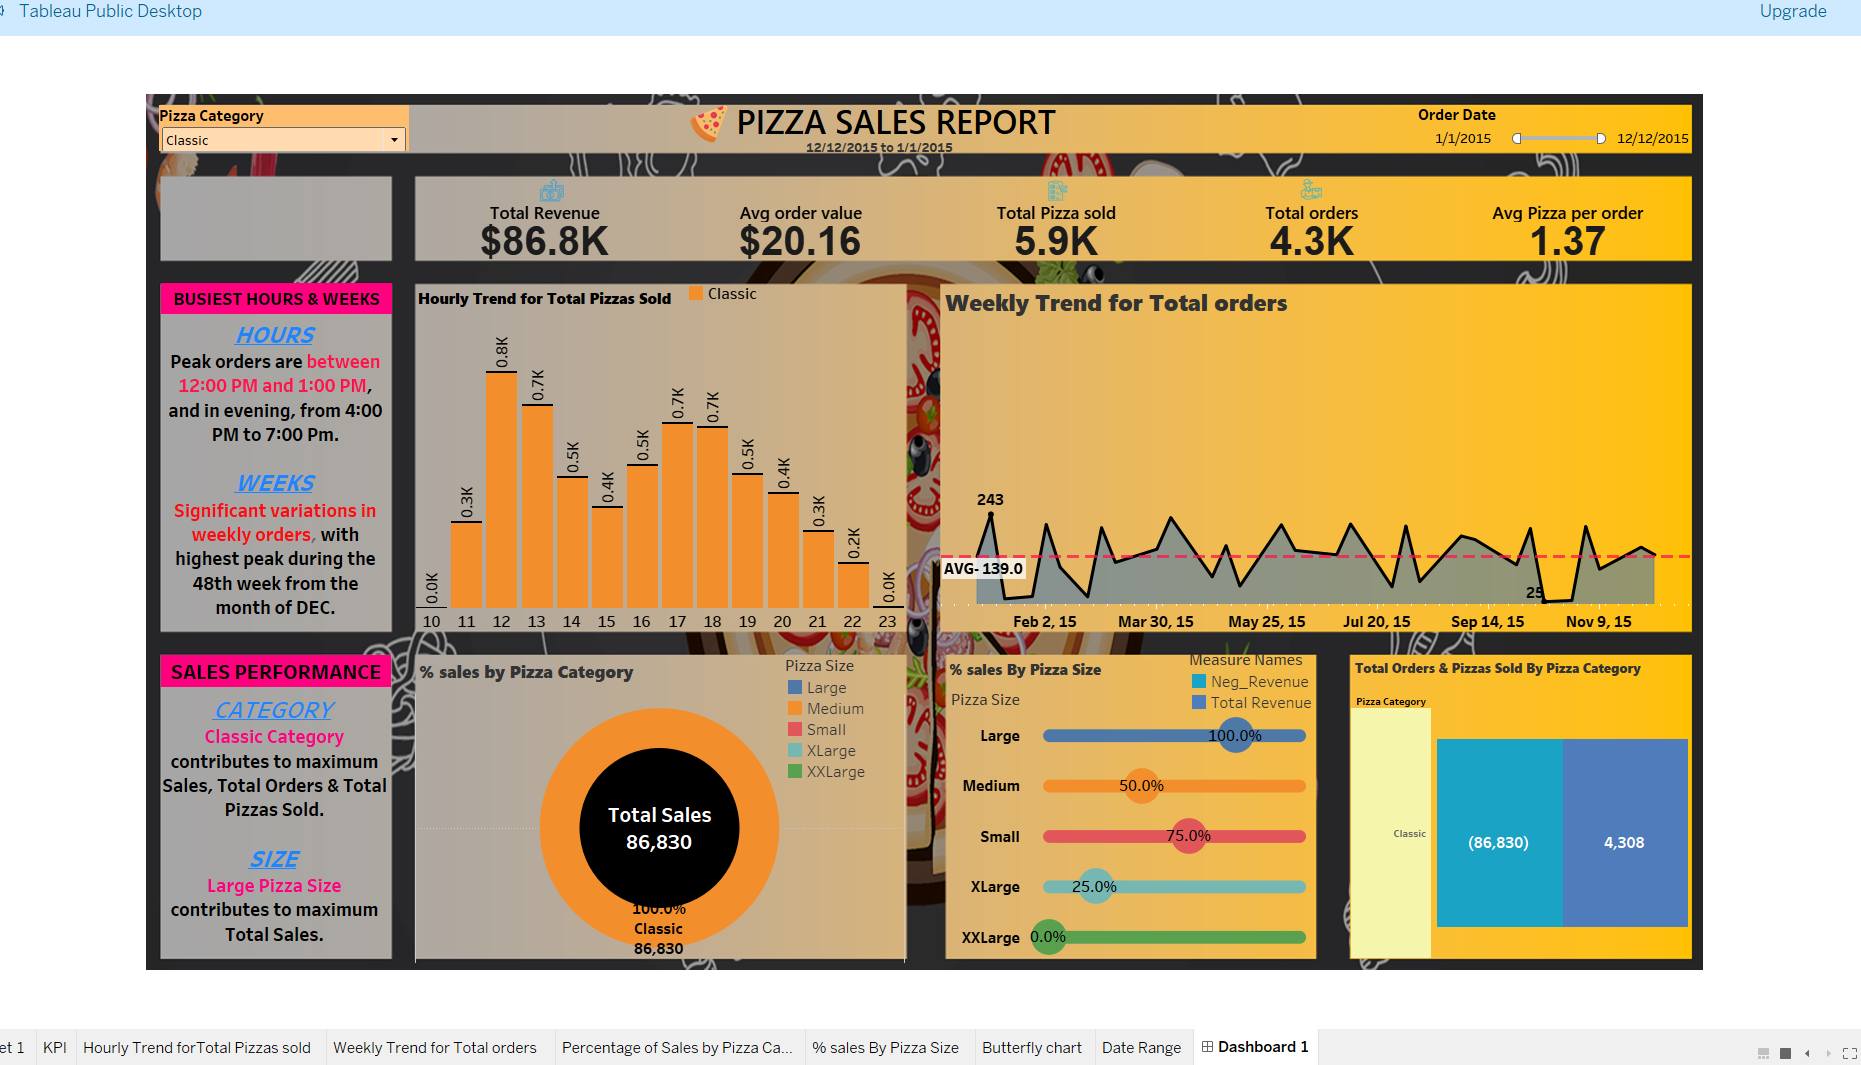

The dashboard page shown, as its layout file describes it:
{"tool":"tableau","page":{"name":"Dashboard 1","canvas":[1600,900],"ordinal":0},"visuals":[{"type":"image","param":"C:/Users/salma/OneDrive/Desktop/Tableau_Data/pizza_sales_background.png","box":[8,8,1584,884]},{"type":"image","param":"D:/Downloads/Tableau Tutorial -20241008T174154Z-001/Tableau Tutorial/Pizza Sales","box":[562,22,44,39]},{"type":"text","box":[608,22,327,32]},{"type":"filter","title":"Hourly Trend forTotal Pizzas sold","param":"[federated.0jikpc61xjph9s16az8lp0pm8ctw].[none:order_date:qk]","box":[1293,22,282,50]},{"type":"filter","title":"Hourly Trend forTotal Pizzas sold","param":"[federated.0jikpc61xjph9s16az8lp0pm8ctw].[none:pizza_category:nk]","box":[34,23,250,46]},{"type":"worksheet","title":"Date Range","mark":"Automatic","box":[644,61,222,9]},{"type":"image","param":"D:/Downloads/Tableau Tutorial -20241008T174154Z-001/Tableau Tutorial/Pizza Sales","box":[394,94,65,27]},{"type":"image","param":"D:/Downloads/Tableau Tutorial -20241008T174154Z-001/Tableau Tutorial/Pizza Sales","box":[1170,96,33,22]},{"type":"image","param":"D:/Downloads/Tableau Tutorial -20241008T174154Z-001/Tableau Tutorial/Pizza Sales","box":[909,98,47,21]},{"type":"worksheet","title":"KPI","mark":"Automatic","box":[292,120,1279,59]},{"type":"worksheet","title":"Weekly Trend for Total orders","mark":"Area","rows":["Calculation_2512445645265821696","Calculation_2512445645265821696"],"cols":["order_date"],"box":[816,200,749,352]},{"type":"text","box":[36,201,231,31]},{"type":"legend","title":"Hourly Trend forTotal Pizzas sold","param":"[federated.0jikpc61xjph9s16az8lp0pm8ctw].[none:pizza_category:nk]","box":[561,201,252,48]},{"type":"worksheet","title":"Hourly Trend forTotal Pizzas sold","mark":"Bar","rows":["Calculation_2512445645267087363","Calculation_2512445645267087363"],"cols":["order_time"],"box":[289,202,492,349]},{"type":"text","box":[37,231,227,319]},{"type":"legend","title":"Butterfly chart","param":"[federated.0jikpc61xjph9s16az8lp0pm8ctw].[:Measure Names]","box":[1064,567,140,64]},{"type":"text","box":[36,573,230,32]},{"type":"legend","title":"% sales By Pizza Size","param":"[federated.0jikpc61xjph9s16az8lp0pm8ctw].[none:pizza_size:nk]","box":[660,573,140,127]},{"type":"worksheet","title":"% sales By Pizza Size","mark":"Line","rows":["pizza_size"],"box":[820,573,373,307]},{"type":"worksheet","title":"Butterfly chart","mark":"Automatic","rows":["pizza_category"],"cols":["Calculation_2512445645965512715","Calculation_2512445645266391041"],"box":[1226,573,343,303]},{"type":"worksheet","title":"Percentage of Sales by Pizza Category","mark":"Pie","rows":["Calculation_2512445645935116294","Calculation_2512445645935165448"],"box":[290,574,490,307]},{"type":"text","box":[34,605,231,271]}]}

Visuals, with their boxes on the page's 1600x900 design canvas (x1, y1, x2, y2). These are canvas units, not pixel positions in the 1861x1065 screenshot, which may show the page scaled, cropped or inside an application window:
image: box=[8, 8, 1592, 892]
image: box=[562, 22, 606, 61]
text: box=[608, 22, 935, 54]
"Hourly Trend forTotal Pizzas sold" filter: box=[1293, 22, 1575, 72]
"Hourly Trend forTotal Pizzas sold" filter: box=[34, 23, 284, 69]
"Date Range" worksheet: box=[644, 61, 866, 70]
image: box=[394, 94, 459, 121]
image: box=[1170, 96, 1203, 118]
image: box=[909, 98, 956, 119]
"KPI" worksheet: box=[292, 120, 1571, 179]
"Weekly Trend for Total orders" worksheet (Area marks): box=[816, 200, 1565, 552]
text: box=[36, 201, 267, 232]
"Hourly Trend forTotal Pizzas sold" legend: box=[561, 201, 813, 249]
"Hourly Trend forTotal Pizzas sold" worksheet (Bar marks): box=[289, 202, 781, 551]
text: box=[37, 231, 264, 550]
"Butterfly chart" legend: box=[1064, 567, 1204, 631]
text: box=[36, 573, 266, 605]
"% sales By Pizza Size" legend: box=[660, 573, 800, 700]
"% sales By Pizza Size" worksheet (Line marks): box=[820, 573, 1193, 880]
"Butterfly chart" worksheet: box=[1226, 573, 1569, 876]
"Percentage of Sales by Pizza Category" worksheet (Pie marks): box=[290, 574, 780, 881]
text: box=[34, 605, 265, 876]
